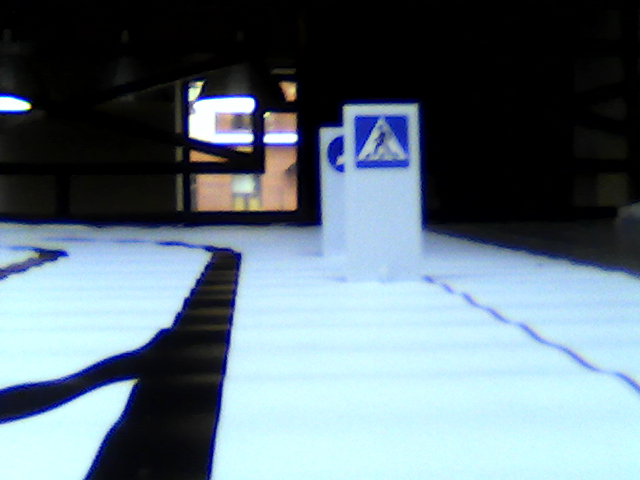pesh: (353, 114, 409, 169)
